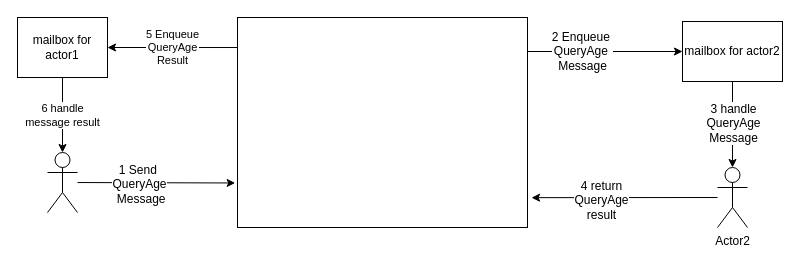
Some shapes in this 800 by 266 pixel diagram are drawn without their labels. The shapes that lost their labels are listed below. From the top down, each one's centre as x and y in pixels, then its label:
the point at 382,122: actor system
the point at 62,182: Actor1
